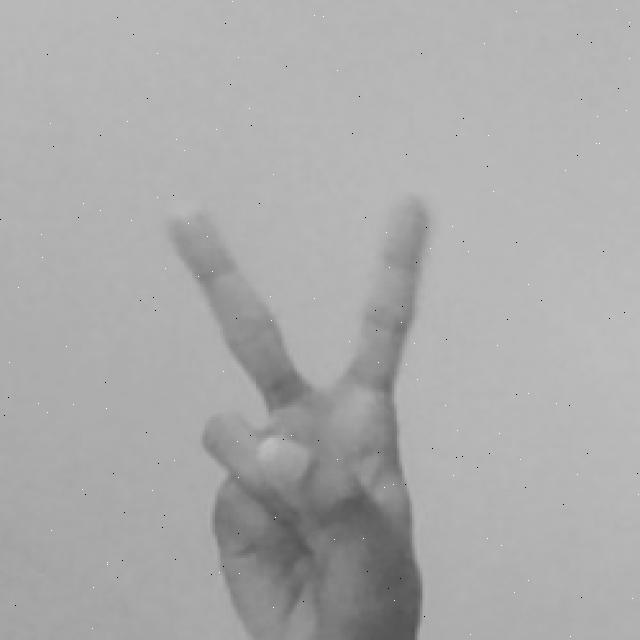V: (151, 182, 448, 640)
